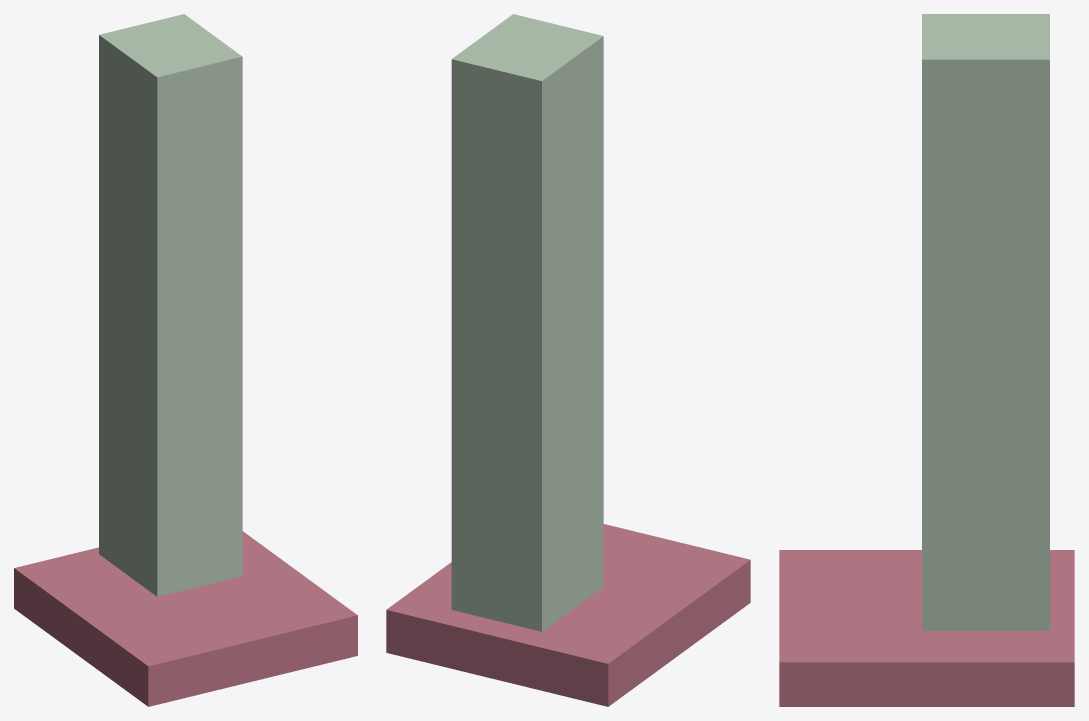
The picture shows the model from 3 angles, left to right: view 1: azimuth 30°, elevation 25°; view 2: azimuth 150°, elevation 25°; view 3: azimuth 270°, elevation 25°; orthographic projection. The views are drawn at different scales.
Parts seen in each view (by area): view 1: world; view 2: world; view 3: world.
Part boxes in pixels (<box>): world: <box>14,14,357,706</box>; world: <box>386,14,750,706</box>; world: <box>779,14,1074,706</box>.
Size of the model in its own units: 2.7 by 6.95 by 3.
